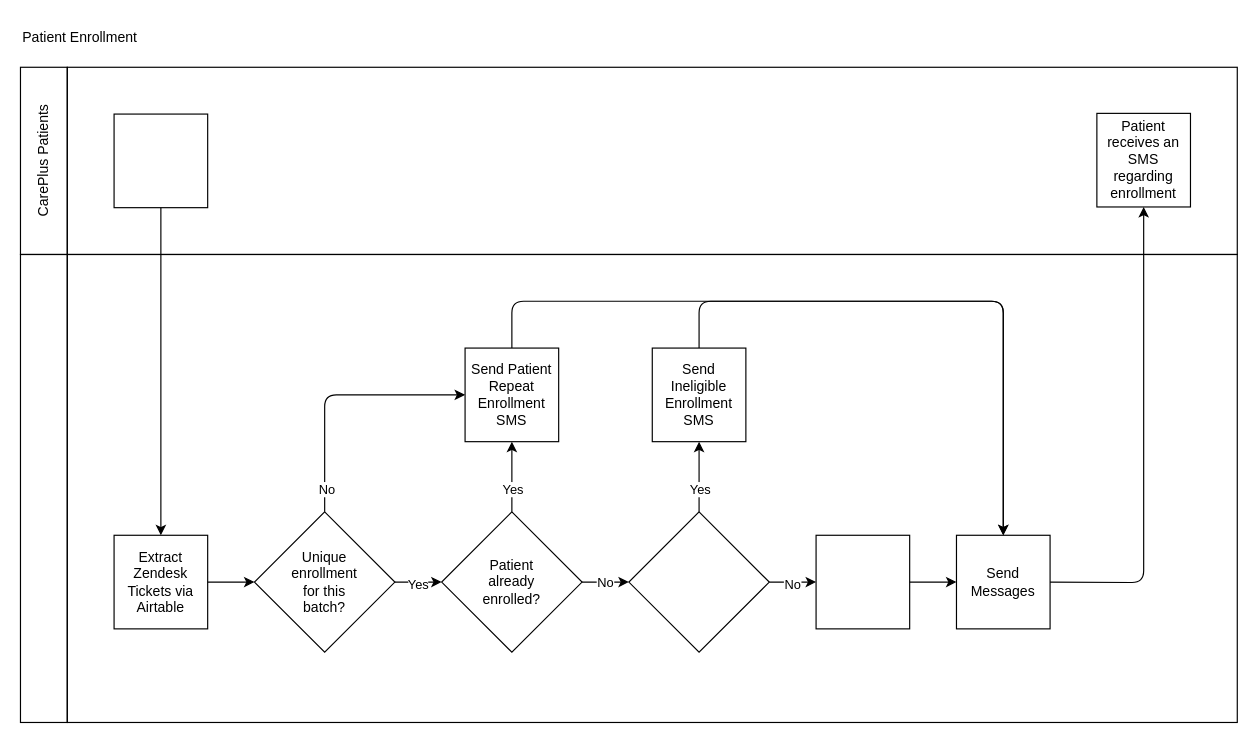
Image size: 1258x743. Some labels were removed from this diagram. The centre of each missing label's shape, as x and y in pixels:
Coordinators: the point at 43,487
Fill out patient form on CarePlus website: the point at 160,160
Send Patient Enrollment Approval SMS: the point at 862,581
ZPC patient?: the point at 698,581
